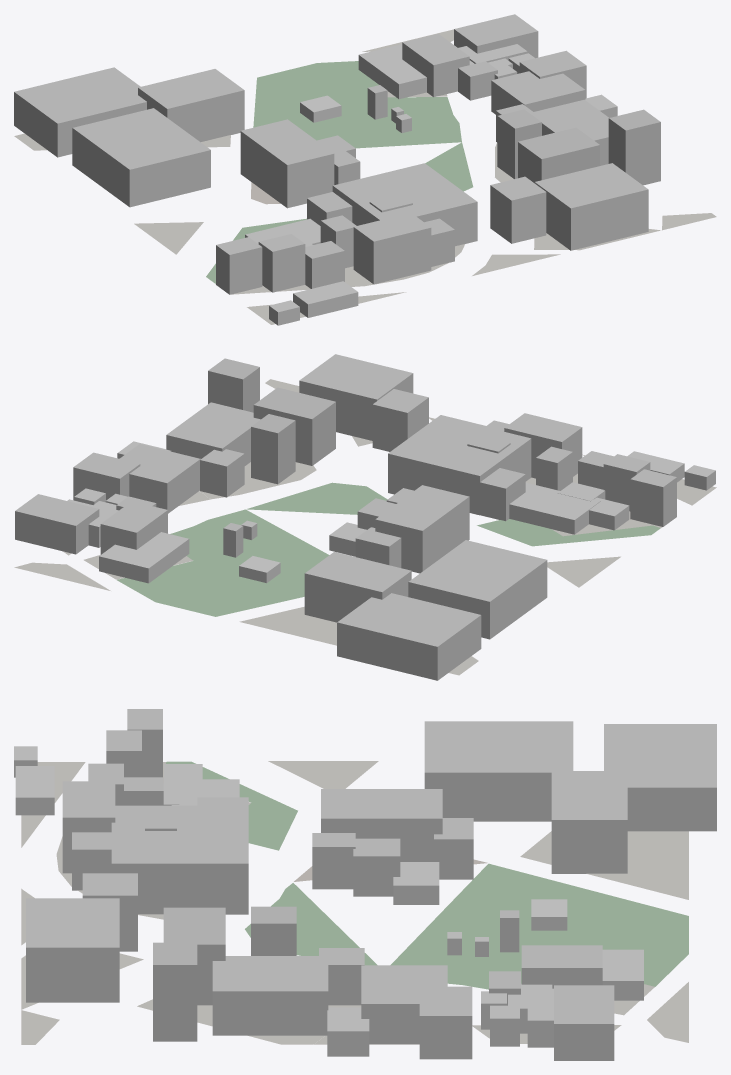
File: 110_110_mid.glb
3 renders of one model, top to bottom at view 1: azimuth 30°, elevation 25°; view 2: azimuth 150°, elevation 25°; view 3: azimuth 270°, elevation 25°, orthographic. The views are drawn at different scales.
Size of the model in its own units: 531 by 63.4 by 526.
